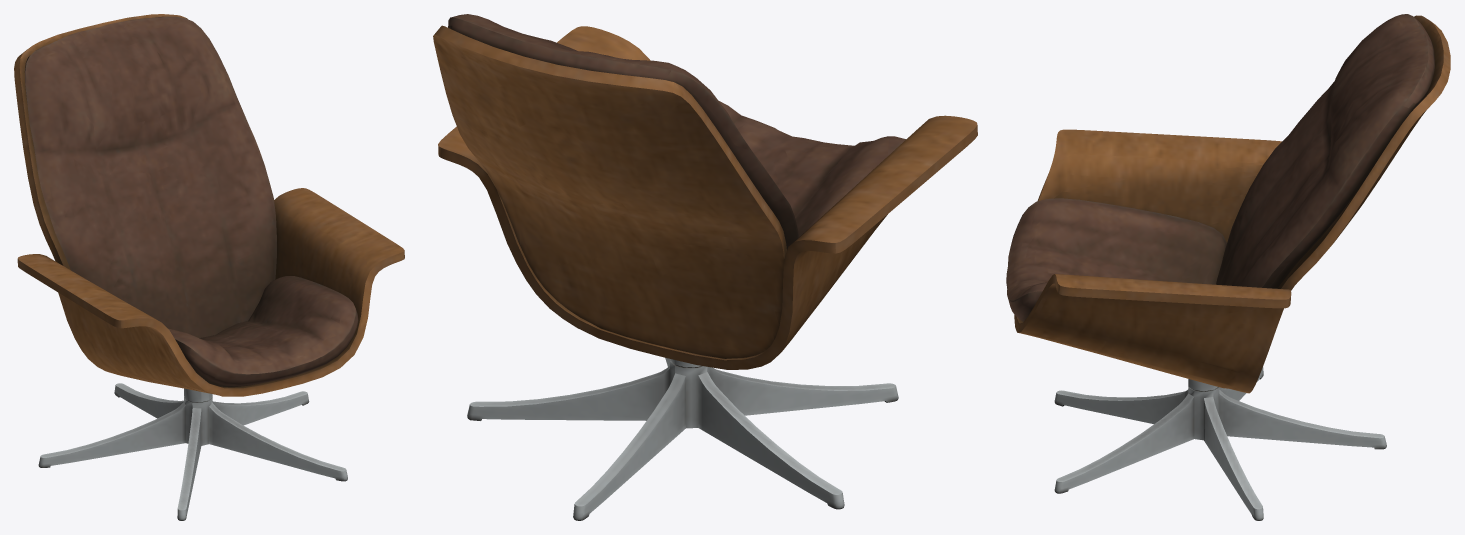
Rendered from chair_lounge.glb.
3 views of the same model, side by side, from view 1: azimuth 30°, elevation 25°; view 2: azimuth 150°, elevation 25°; view 3: azimuth 270°, elevation 25° (orthographic). The views are drawn at different scales.
Visible parts, largest first — view 1: mesh; view 2: mesh; view 3: mesh.
Boxes of the visible parts, x1=… form: mesh: x1=14, y1=14, x2=404, y2=520; mesh: x1=433, y1=14, x2=977, y2=520; mesh: x1=1006, y1=14, x2=1450, y2=520.
Bounding box in the file's own units: 1.01 × 1.17 × 1.19.
1 material, 1 textured.
